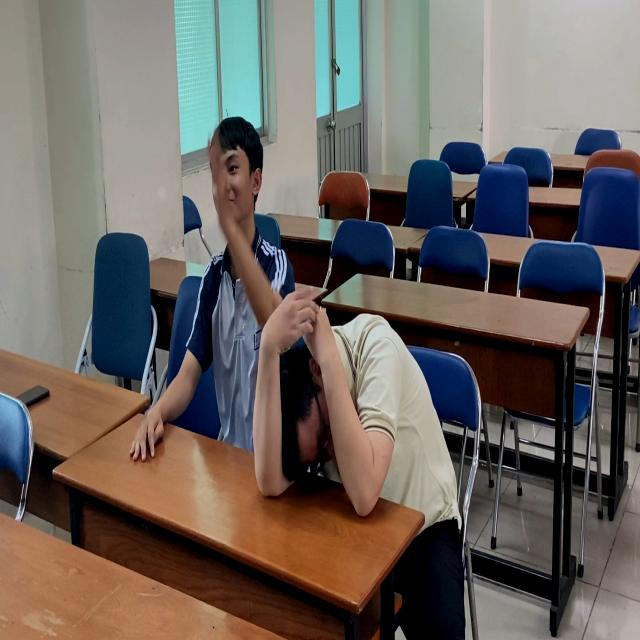raise_hand: (154, 108, 280, 445)
sleep: (245, 282, 442, 531)
